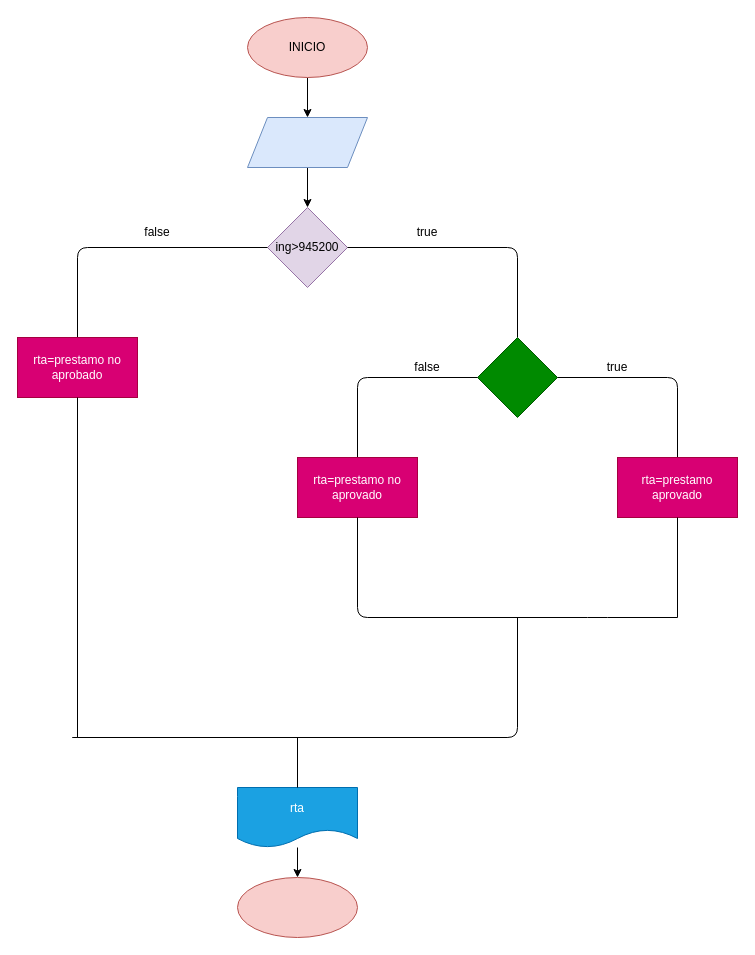
Some shapes in this 755 by 955 pixel diagram are drawn without their labels. Each missing label, with the centre of its shape:
"deuda==0" goes at point 517,377.
"FIN" goes at point 297,907.
"ing,deuda" goes at point 307,142.
